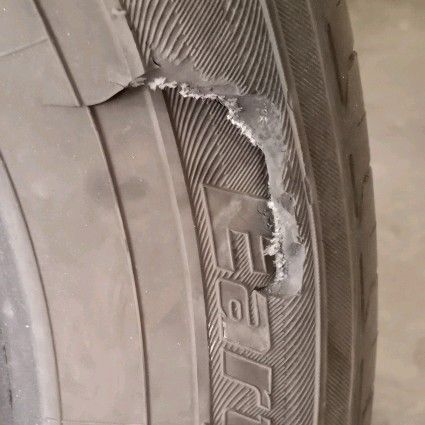cut: (42, 64, 310, 306)
